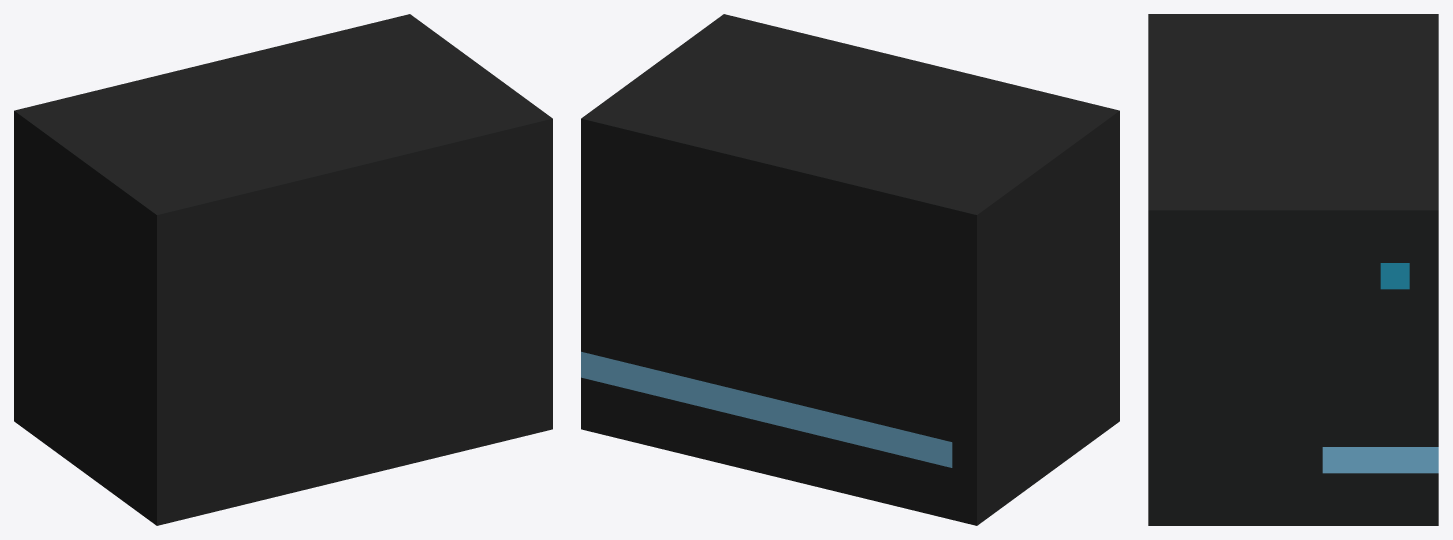
File: desktop.obj
3 renders of one model, left to right at view 1: azimuth 30°, elevation 25°; view 2: azimuth 150°, elevation 25°; view 3: azimuth 270°, elevation 25°, orthographic.
Size of the model in its own units: 1.6 by 1.2 by 1.
1 material, 1 textured.
